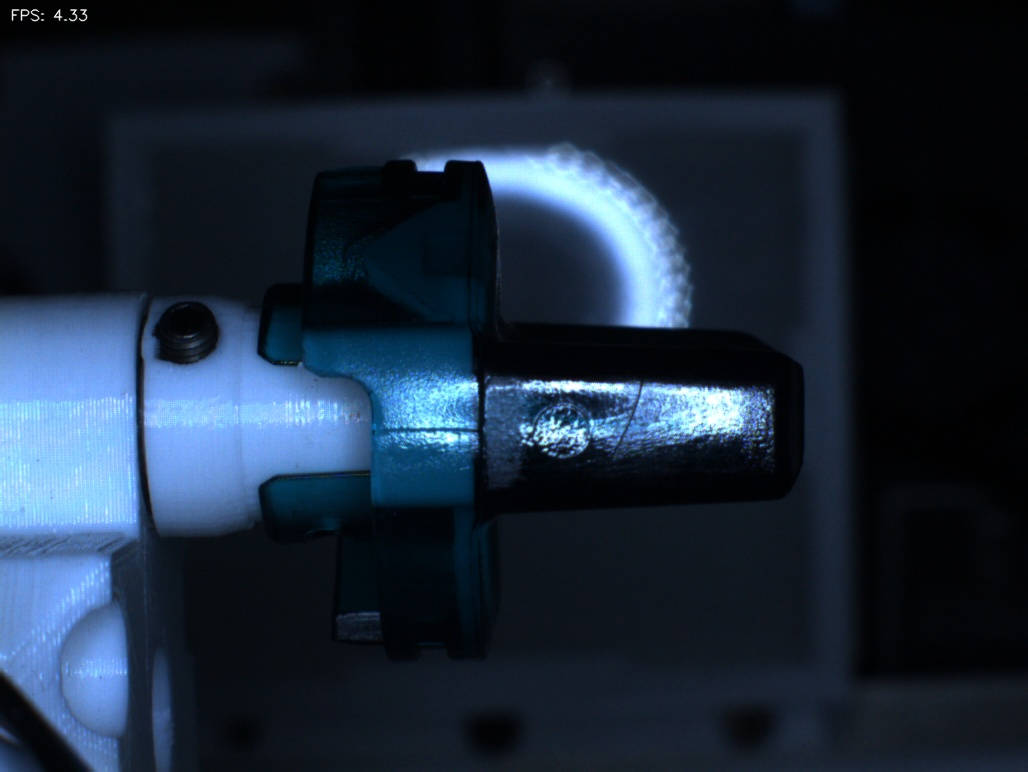DentOk: (338, 220, 416, 315)
